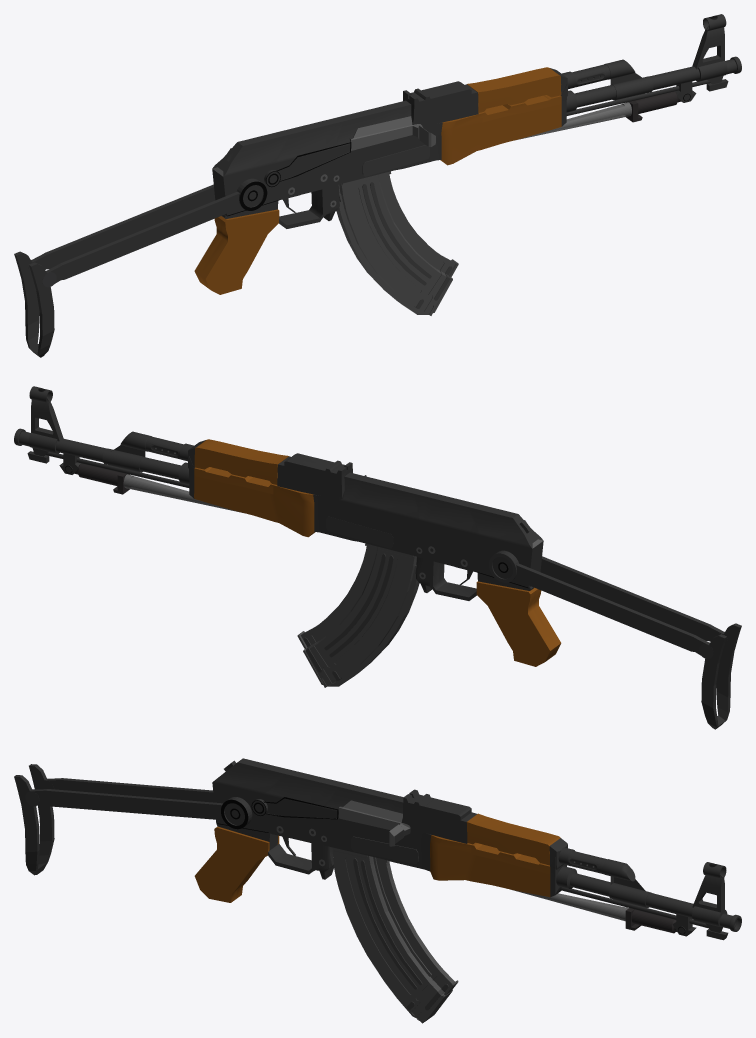
The picture shows the model from 3 angles, top to bottom: view 1: azimuth 30°, elevation 25°; view 2: azimuth 150°, elevation 25°; view 3: azimuth 330°, elevation 25°; orthographic projection.
Visible parts, largest first — view 1: senapan_4, POPOR LIPAT.002_7, Cube.010_6, bayonate_5; view 2: senapan_4, POPOR LIPAT.002_7, Cube.010_6, bayonate_5; view 3: senapan_4, Cube.010_6, POPOR LIPAT.002_7, bayonate_5.
Part boxes in pixels (left/top/right/bottom): senapan_4: left=194, top=14, right=741, bottom=294; POPOR LIPAT.002_7: left=14, top=178, right=267, bottom=357; Cube.010_6: left=336, top=171, right=458, bottom=315; bayonate_5: left=517, top=91, right=681, bottom=139; senapan_4: left=14, top=386, right=561, bottom=666; POPOR LIPAT.002_7: left=489, top=550, right=741, bottom=729; Cube.010_6: left=297, top=543, right=419, bottom=687; bayonate_5: left=74, top=463, right=242, bottom=512; senapan_4: left=194, top=758, right=741, bottom=940; Cube.010_6: left=332, top=847, right=458, bottom=1023; POPOR LIPAT.002_7: left=14, top=764, right=252, bottom=875; bayonate_5: left=511, top=889, right=676, bottom=933.
Bounding box in the file's own units: 19.36 × 5.85 × 1.4.
